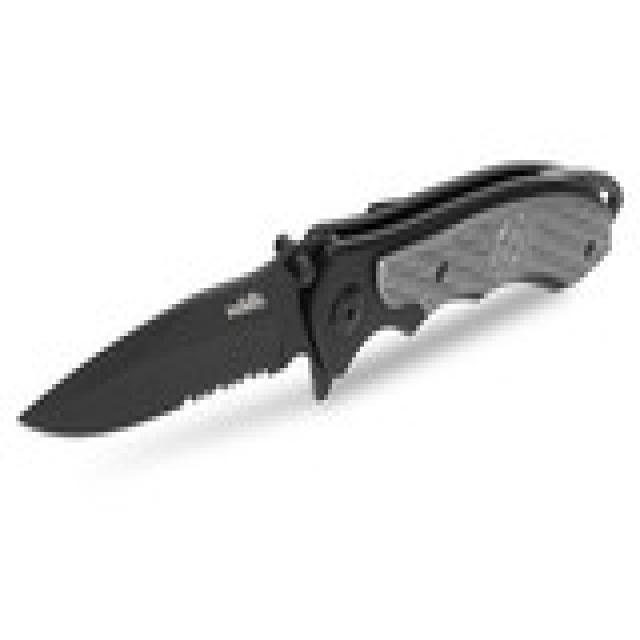Knife: (11, 164, 626, 471)
